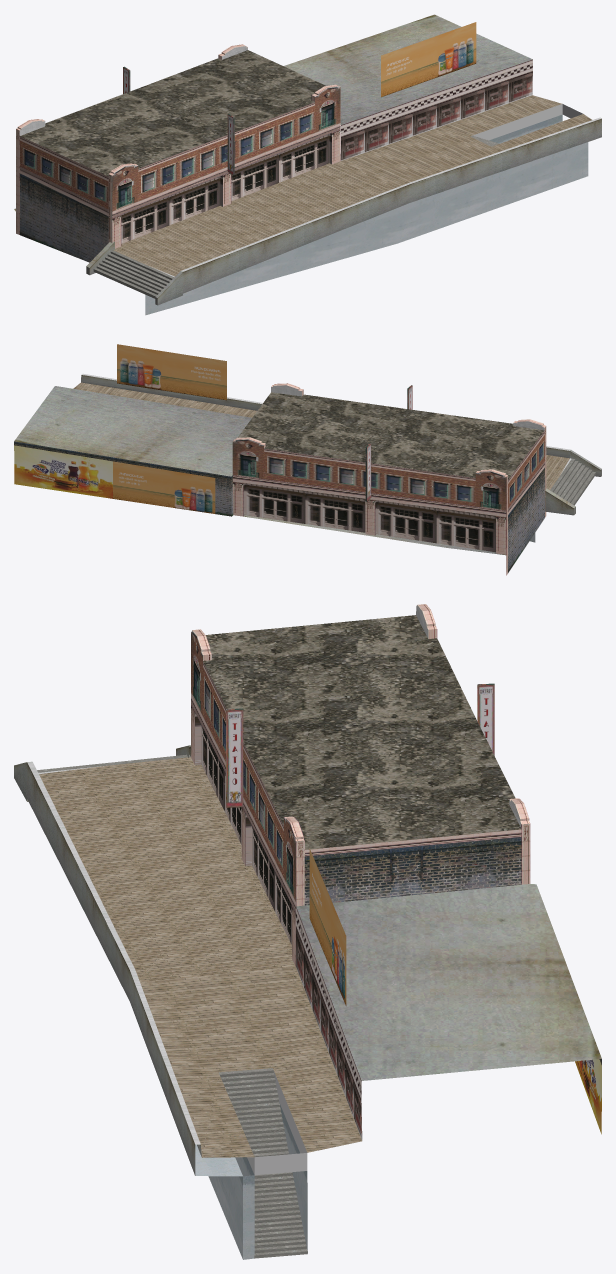
File: venice04_law2.obj
The picture shows the model from 3 angles, top to bottom: view 1: azimuth 30°, elevation 25°; view 2: azimuth 150°, elevation 25°; view 3: azimuth 270°, elevation 25°; orthographic projection. The views are drawn at different scales.
Parts seen in each view (by area): view 1: venice04_LAw2; view 2: venice04_LAw2; view 3: venice04_LAw2.
Boxes of the visible parts, x1,y1,x2,y2 form: venice04_LAw2: (14, 14, 601, 315); venice04_LAw2: (14, 344, 601, 575); venice04_LAw2: (14, 604, 601, 1259).
Size of the model in its own units: 77.49 by 22.48 by 44.95.
